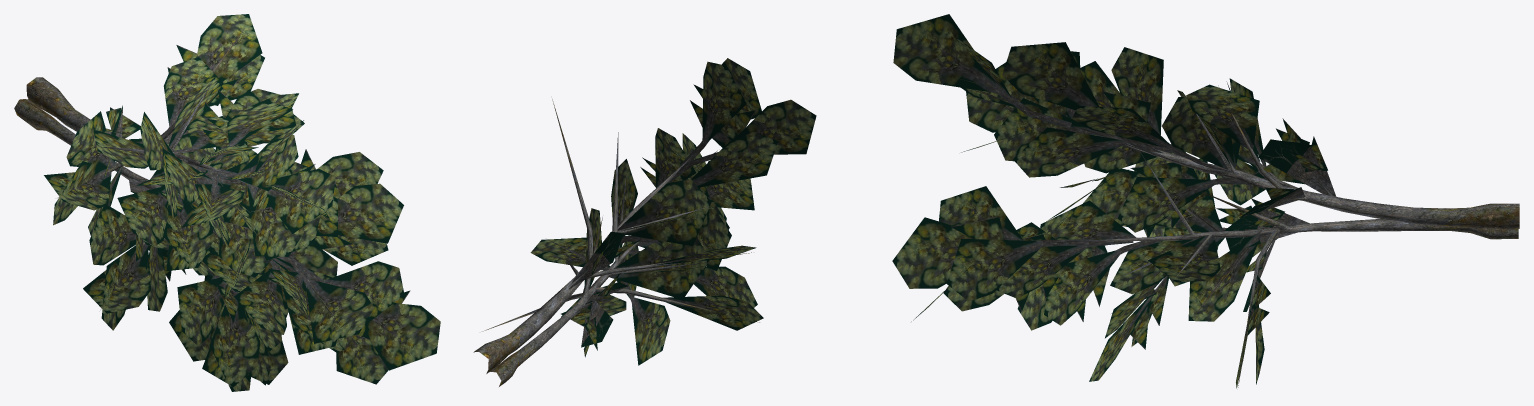
Rendered from tree_river_birch_med_a.glb.
3 renders of one model, left to right at view 1: azimuth 30°, elevation 25°; view 2: azimuth 150°, elevation 25°; view 3: azimuth 270°, elevation 25°, orthographic. The views are drawn at different scales.
Bounding box in the file's own units: 203 × 219 × 398.
Materials: 2 (2 with a texture image).
